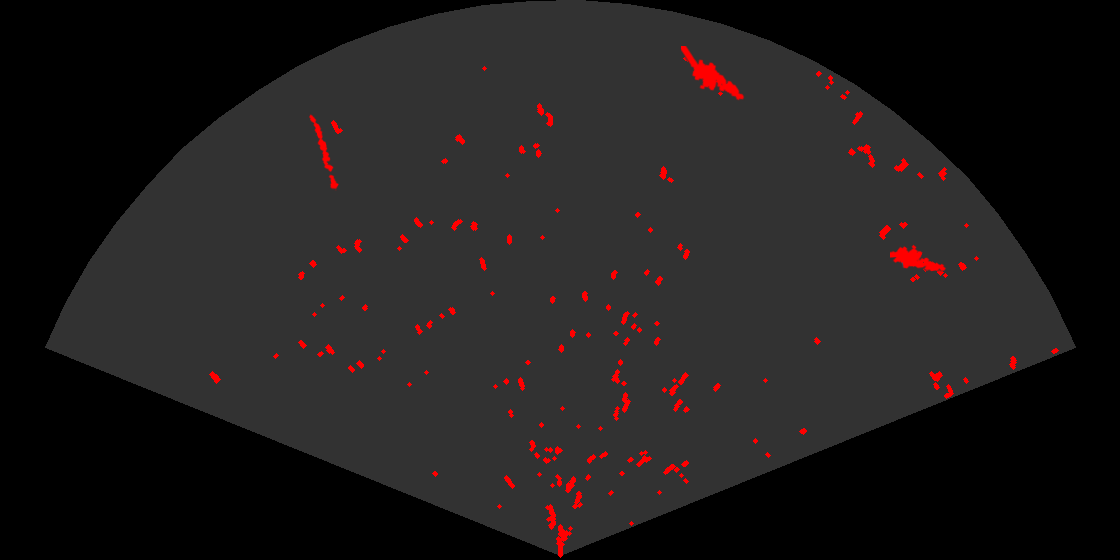chain: (308, 112, 340, 191)
frogman: (681, 46, 746, 102), (890, 243, 947, 273)
